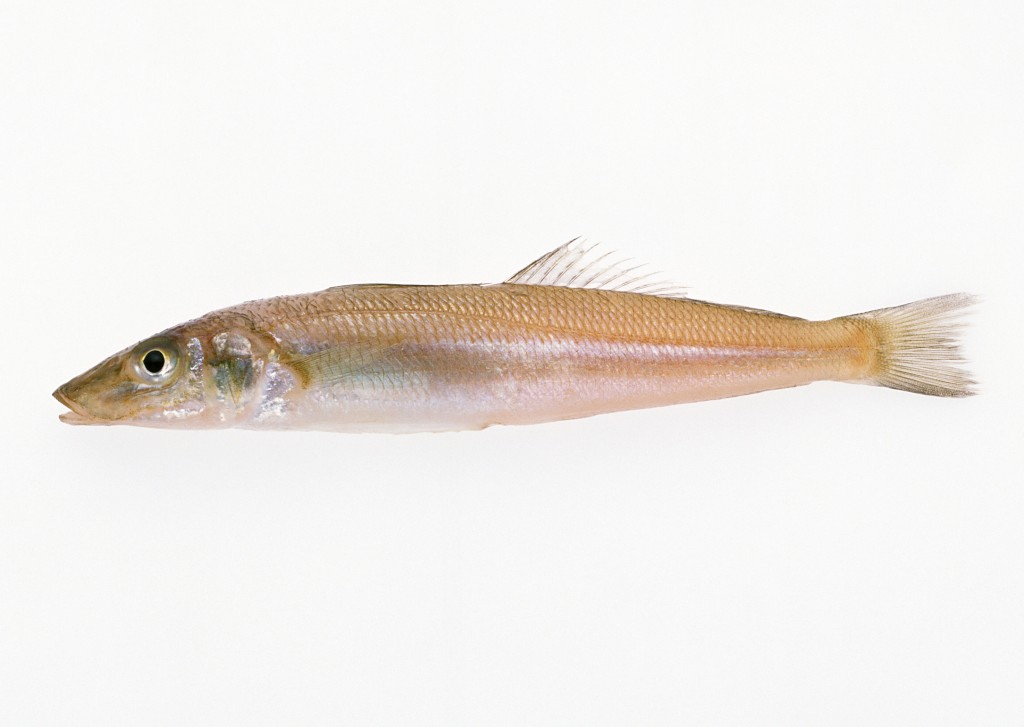kiss: (55, 254, 969, 464)
